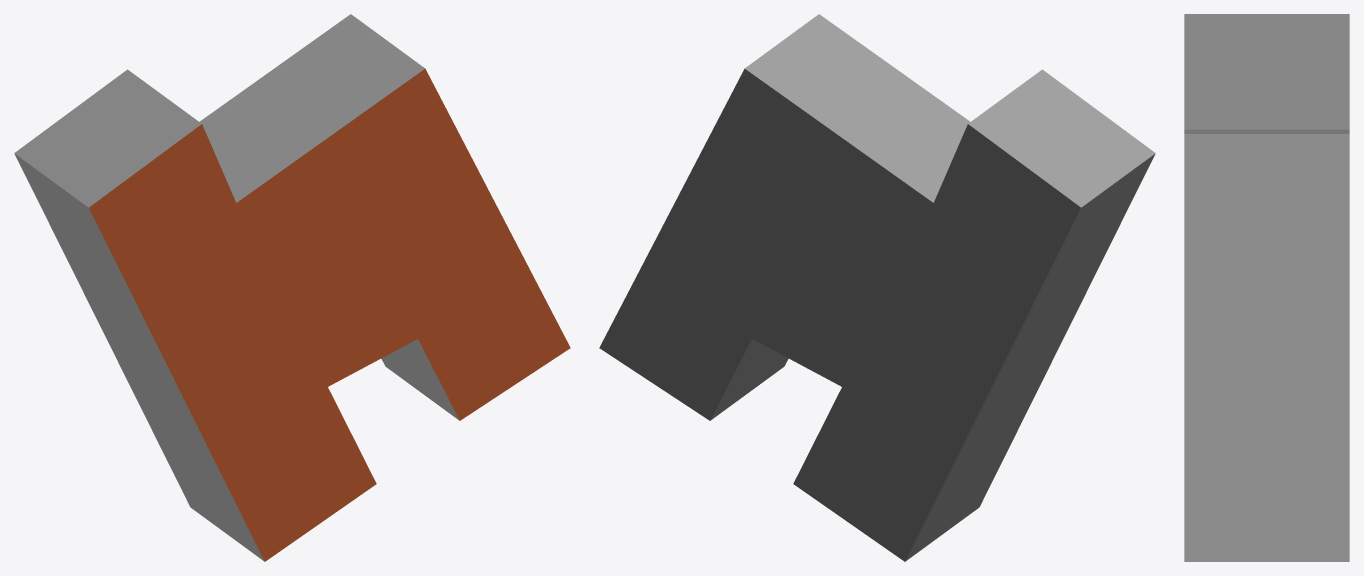
Rendered from construction_0762_assumed_A_Casa_h6m.obj.
The picture shows the model from 3 angles, left to right: view 1: azimuth 30°, elevation 25°; view 2: azimuth 150°, elevation 25°; view 3: azimuth 270°, elevation 25°; orthographic projection. The views are drawn at different scales.
Visible parts, largest first — view 1: construction_0762_assumed_A_Casa; view 2: construction_0762_assumed_A_Casa; view 3: construction_0762_assumed_A_Casa.
Boxes of the visible parts, x1,y1,x2,y2 form: construction_0762_assumed_A_Casa: (14,14,570,561); construction_0762_assumed_A_Casa: (599,14,1155,561); construction_0762_assumed_A_Casa: (1184,14,1349,561).
Size of the model in its own units: 22.41 by 20.18 by 6.
